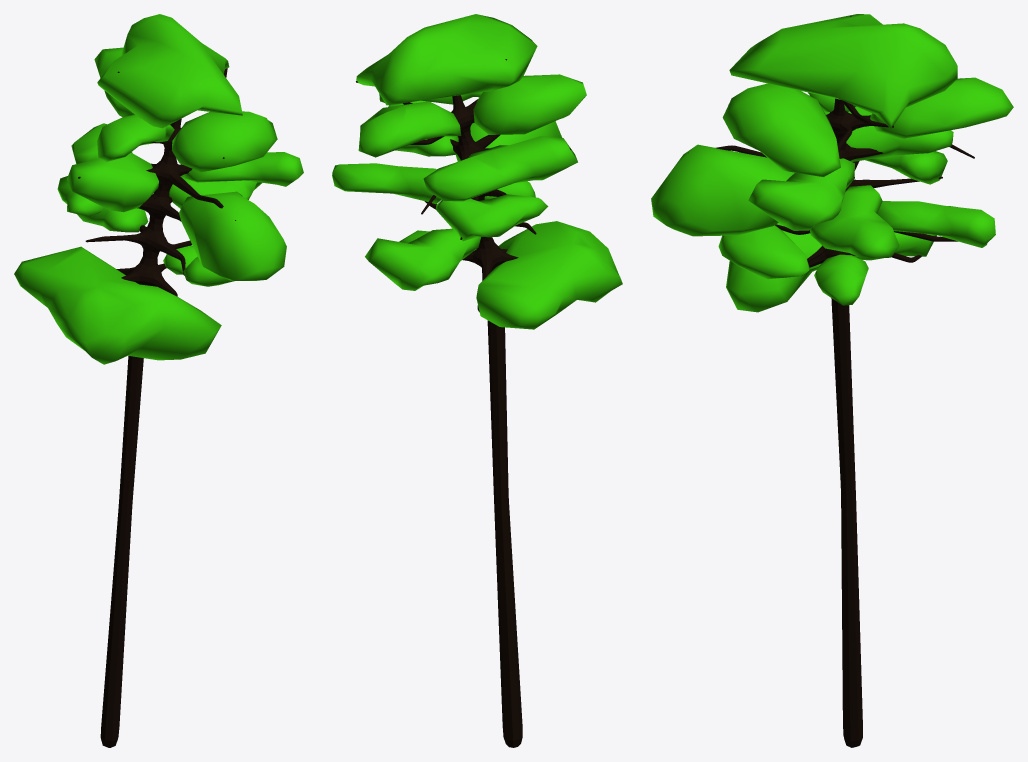
File: pine_tree.obj
3 renders of one model, left to right at view 1: azimuth 30°, elevation 25°; view 2: azimuth 150°, elevation 25°; view 3: azimuth 270°, elevation 25°, orthographic. The views are drawn at different scales.
Visible parts, largest first — view 1: Leaves-col, Mesh_Trunk-col; view 2: Leaves-col, Mesh_Trunk-col; view 3: Leaves-col, Mesh_Trunk-col.
Part boxes in pixels (box(x1,y1,x2,y2)): Leaves-col: box(14, 14, 303, 364); Mesh_Trunk-col: box(78, 68, 235, 747); Leaves-col: box(332, 14, 622, 329); Mesh_Trunk-col: box(356, 59, 571, 747); Leaves-col: box(651, 14, 1013, 312); Mesh_Trunk-col: box(688, 15, 974, 747).
Bounding box in the file's own units: 11.5 × 32.32 × 13.98.
